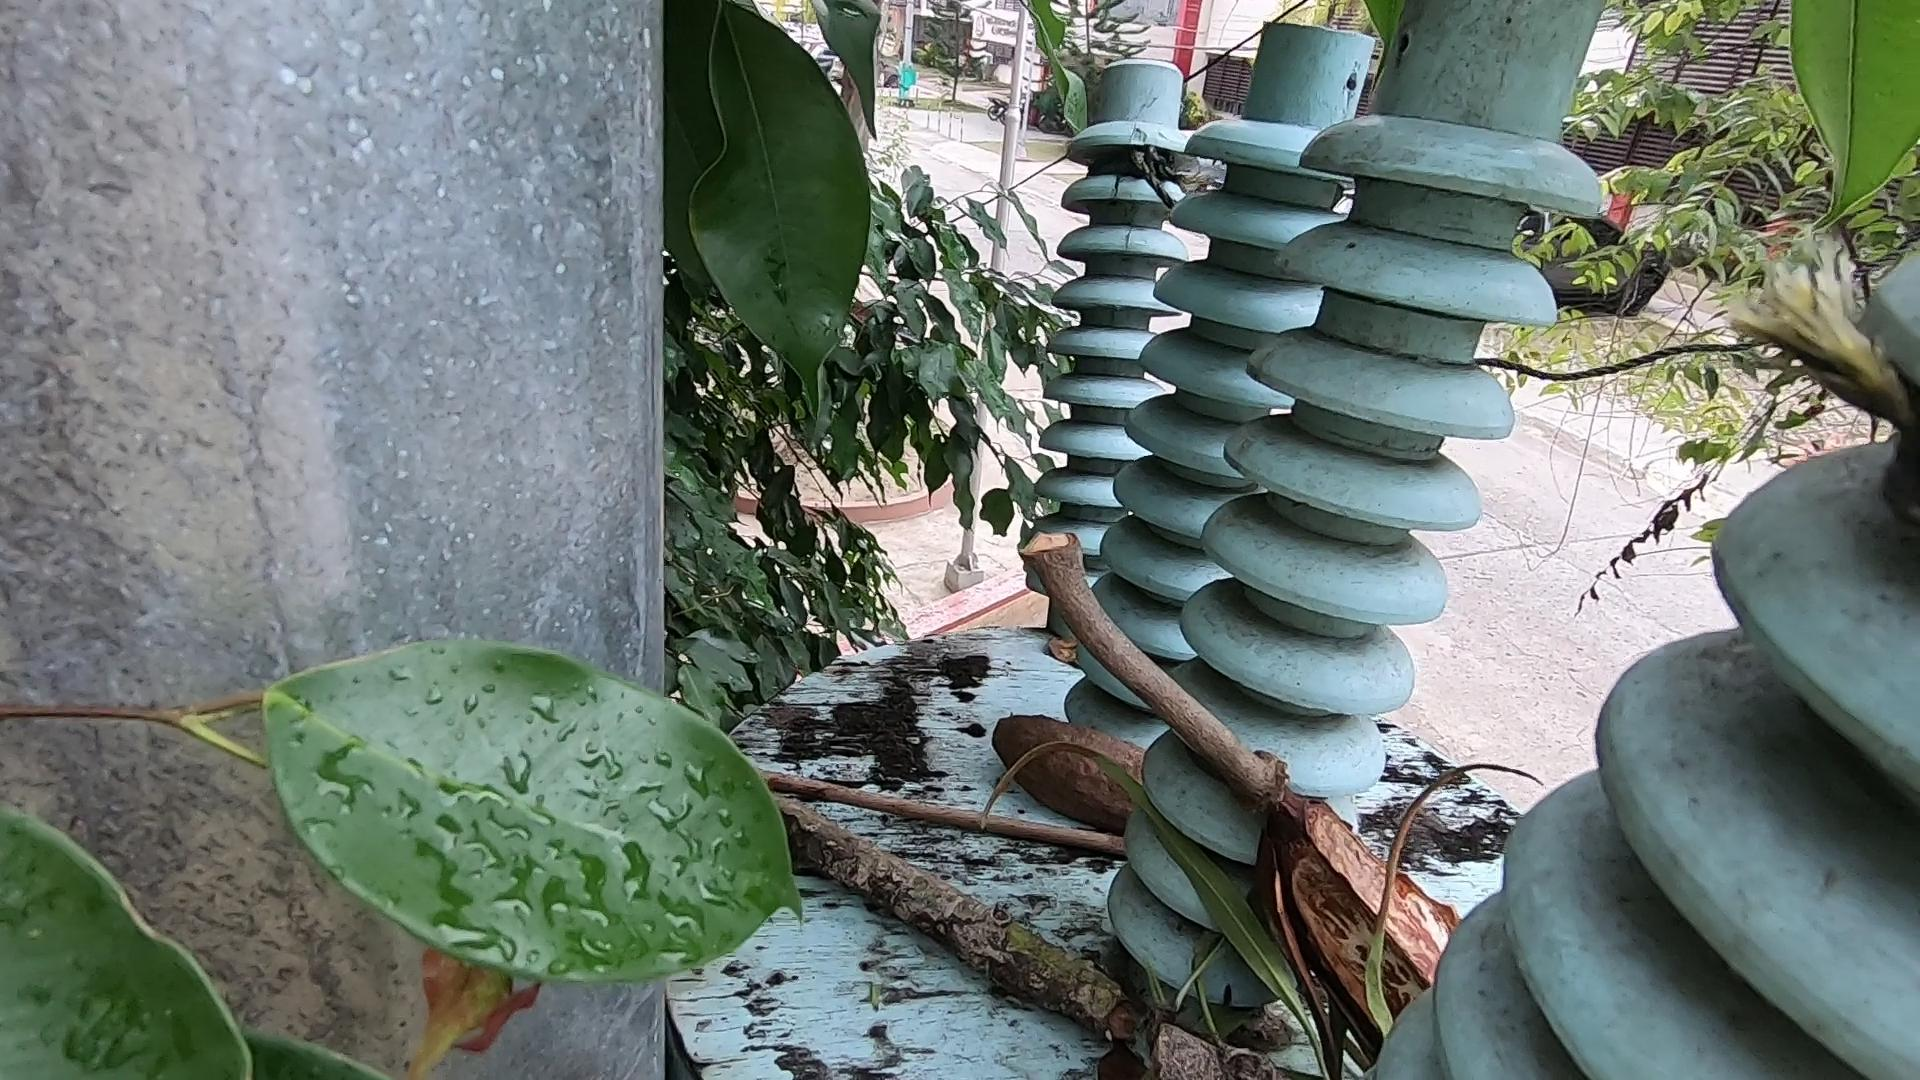branch with leaves: (775, 807, 1251, 1080)
leaf: (1039, 628, 1108, 692)
mahogany fruit: (1240, 723, 1502, 1027), (978, 709, 1197, 869)
tree branch: (1044, 531, 1291, 818), (760, 771, 1127, 855)
